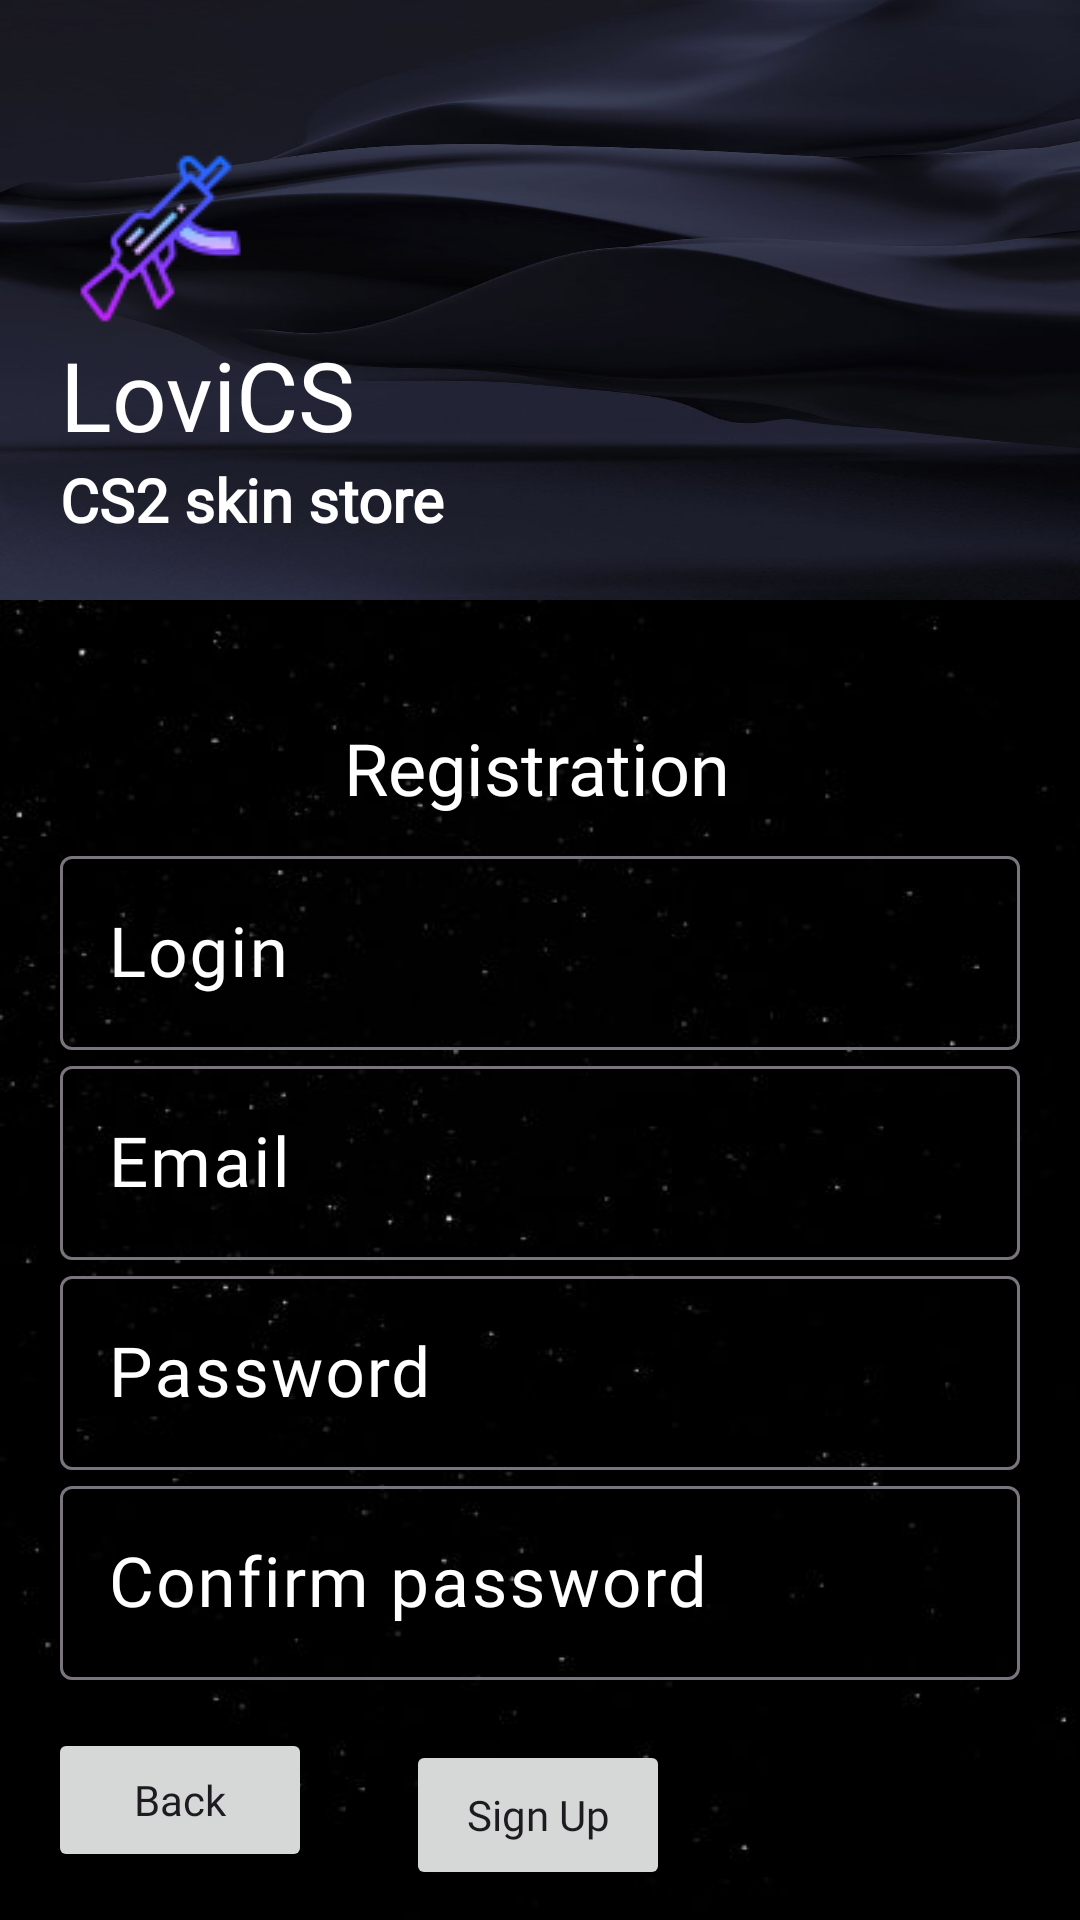

Screen size 1080*1920. Icon name, then its box in pixels as (x1, y1, x2, y2):
gun: (60, 155, 252, 330)
